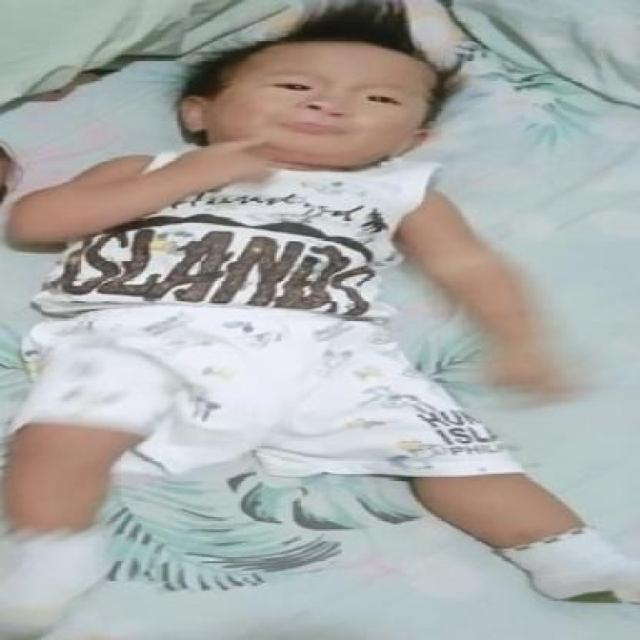baby: (1, 36, 640, 634)
